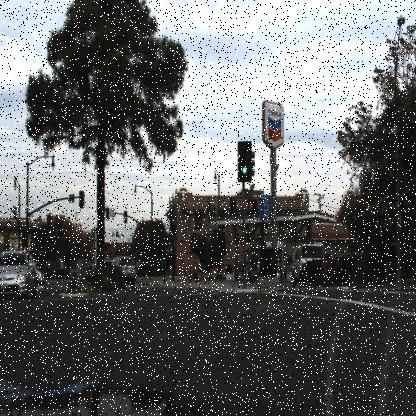car: (1, 248, 38, 300), (290, 240, 330, 284), (108, 254, 137, 288)
trafficLight-Green: (237, 138, 251, 185)
